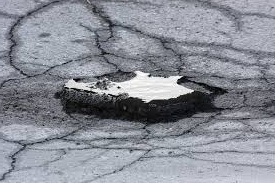pothole: (36, 71, 232, 130)
